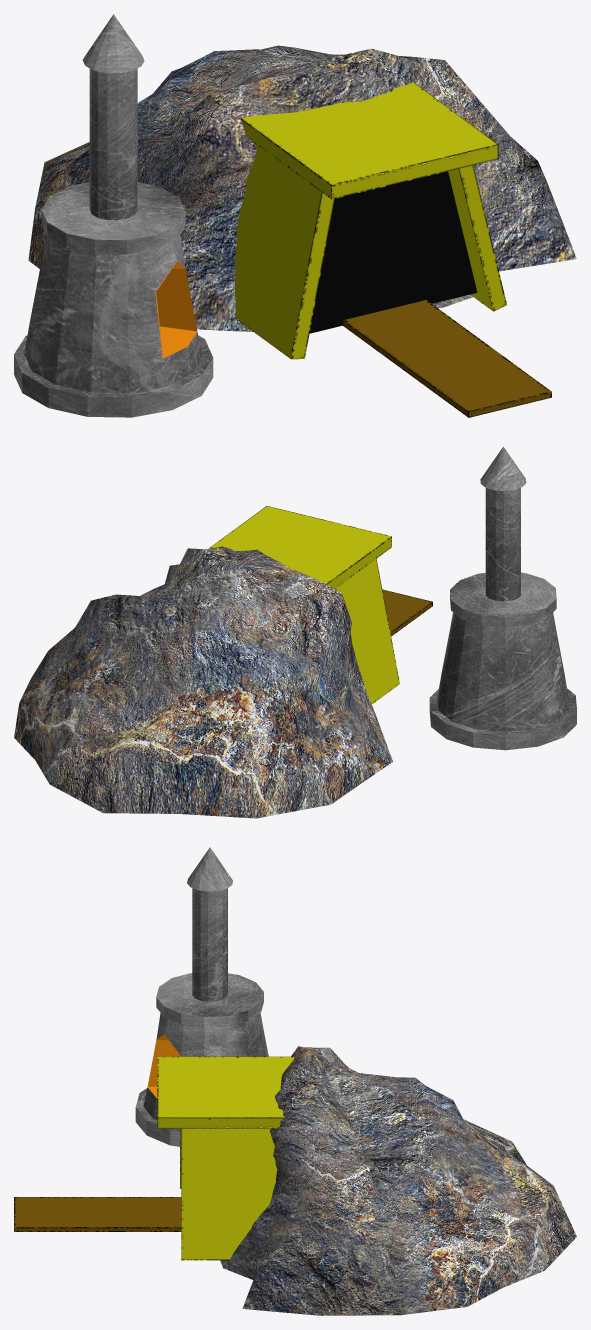
The model's file is iron_mine_lod3.fbx.
The picture shows the model from 3 angles, top to bottom: view 1: azimuth 30°, elevation 25°; view 2: azimuth 150°, elevation 25°; view 3: azimuth 270°, elevation 25°; orthographic projection. The views are drawn at different scales.
Parts seen in each view (by area): view 1: iron_mine_mesh; view 2: iron_mine_mesh; view 3: iron_mine_mesh.
Part boxes in pixels (<box>): iron_mine_mesh: <box>14,14,576,417</box>; iron_mine_mesh: <box>14,446,576,818</box>; iron_mine_mesh: <box>14,847,576,1315</box>.
Size of the model in its own units: 21.37 by 13.05 by 23.41.
